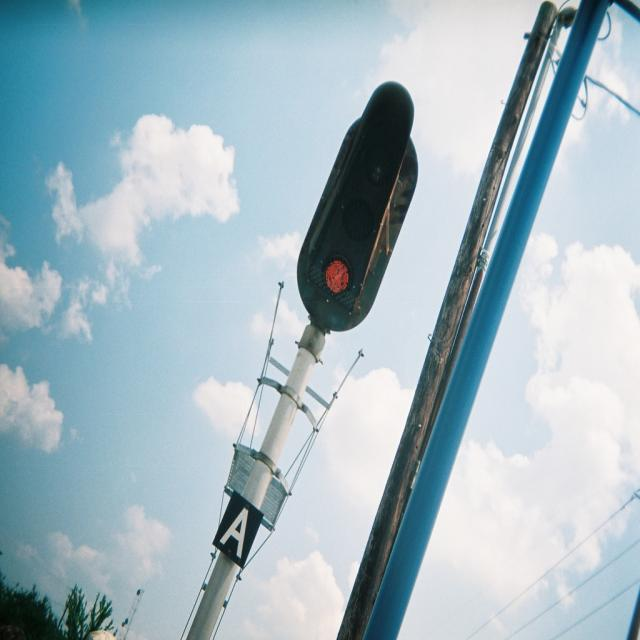traffic light: (299, 84, 418, 331)
